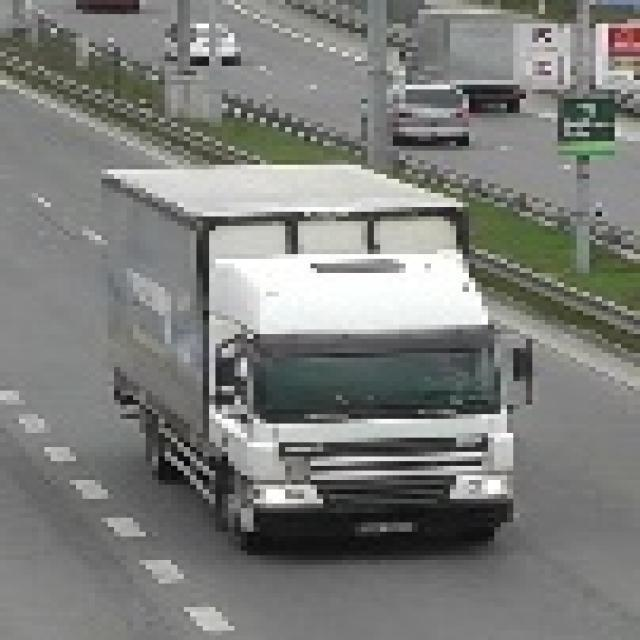truck: (195, 239, 547, 560)
